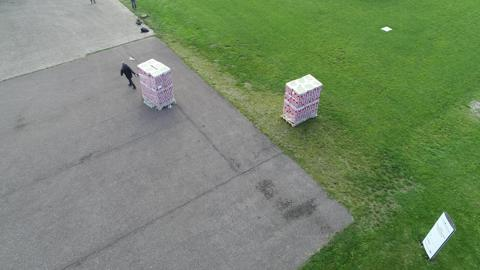RockwoolPallet: (138, 57, 175, 110)
